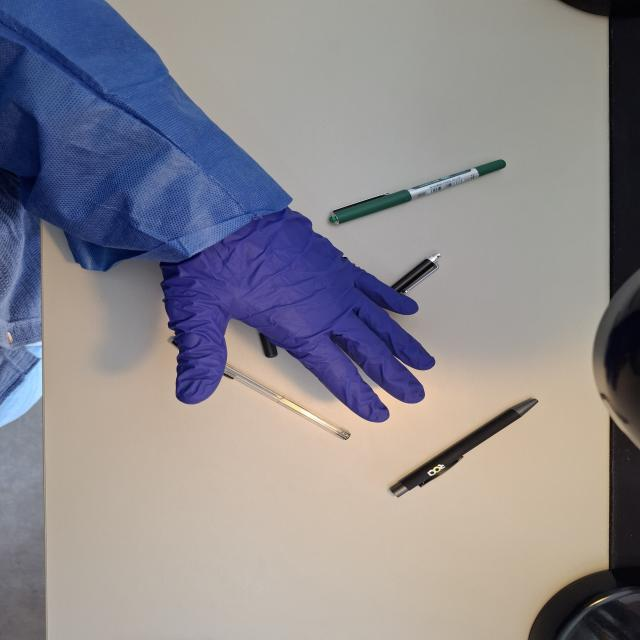glove_on: (155, 205, 439, 425)
